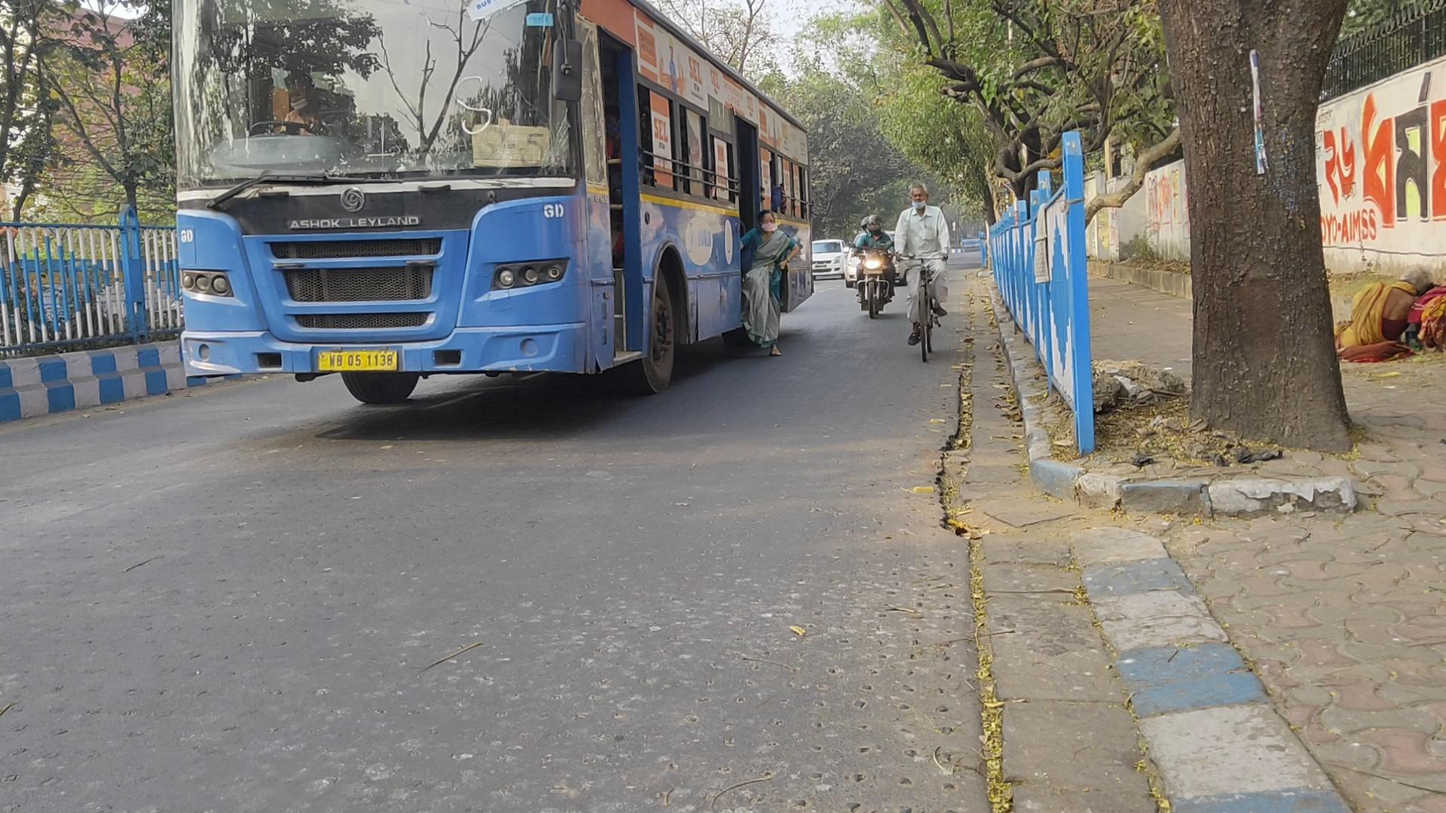Bus: (174, 1, 813, 406)
bike: (894, 184, 950, 363), (847, 215, 897, 319)
car: (844, 230, 908, 288), (811, 239, 848, 282)
